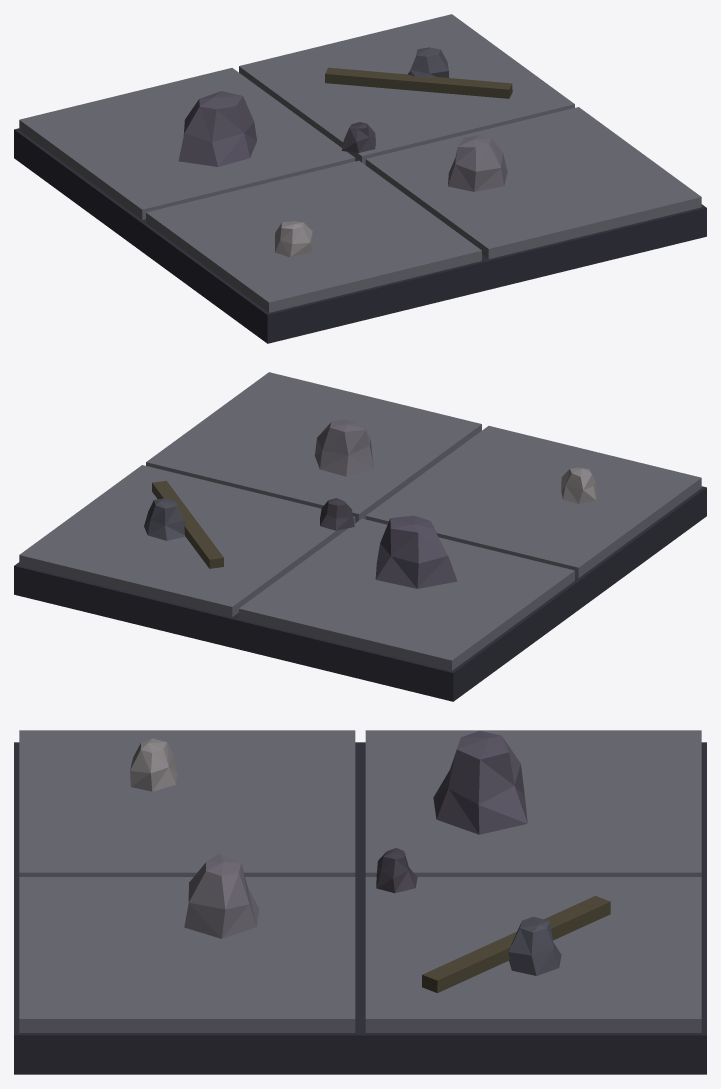
File: floor_rubble.fbx
The picture shows the model from 3 angles, top to bottom: view 1: azimuth 30°, elevation 25°; view 2: azimuth 150°, elevation 25°; view 3: azimuth 270°, elevation 25°; orthographic projection. The views are drawn at different scales.
Visible parts, largest first — view 1: floor_rubble; view 2: floor_rubble; view 3: floor_rubble.
Part boxes in pixels (<box>): floor_rubble: <box>14,14,706,343</box>; floor_rubble: <box>14,372,706,701</box>; floor_rubble: <box>14,730,706,1074</box>.
Size of the model in its own units: 4 by 0.7817 by 4.
